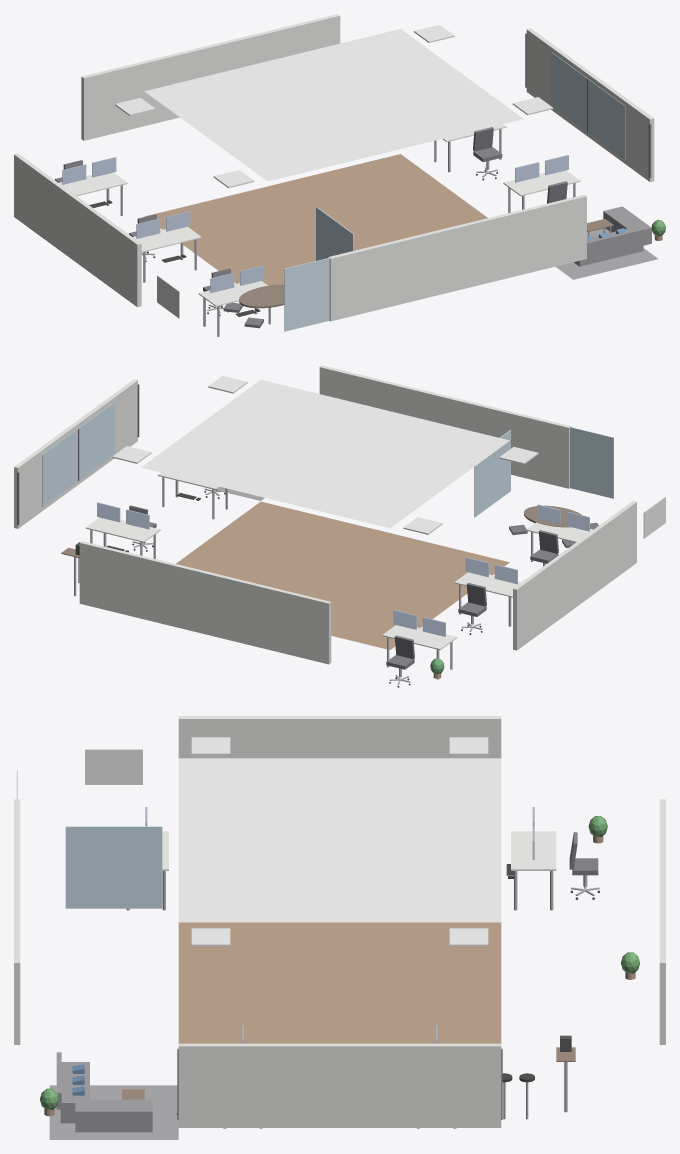
File: office_v7.glb
3 views of the same model, one above another, from view 1: azimuth 30°, elevation 25°; view 2: azimuth 150°, elevation 25°; view 3: azimuth 270°, elevation 25° (orthographic). The views are drawn at different scales.
Parts seen in each view (by area): view 1: Ceiling, Floor, Back_Wall, Front_Wall, Left_Wall, Right_Wall, Window, Glass_Front, Glass_Right, Carpet, Desktop_4, Meeting_Table (+7 smaller); view 2: Ceiling, Floor, Front_Wall, Back_Wall, Left_Wall, Right_Wall, Window, Glass_Front, Glass_Right, Desktop_5, Desktop_3, Desktop_2 (+3 smaller); view 3: Ceiling, Floor, Right_Wall, Left_Wall, Glass_Right, Carpet, Sofa_Side, Whiteboard, Desktop_3, Back_Wall, Front_Wall, Sofa_Main (+4 smaller).
Boxes of the visible parts, x1,y1,x2,y2 form: Ceiling: [145, 29, 523, 181]; Floor: [144, 154, 487, 285]; Back_Wall: [328, 194, 586, 321]; Front_Wall: [81, 14, 340, 140]; Left_Wall: [14, 153, 141, 307]; Right_Wall: [526, 28, 654, 181]; Window: [551, 52, 625, 159]; Glass_Front: [284, 257, 330, 331]; Glass_Right: [316, 207, 353, 260]; Carpet: [555, 228, 657, 279]; Desktop_4: [503, 170, 580, 196]; Meeting_Table: [239, 284, 284, 308]; Ceiling: [141, 380, 509, 528]; Floor: [176, 501, 509, 649]; Front_Wall: [79, 541, 331, 664]; Back_Wall: [319, 365, 571, 488]; Left_Wall: [513, 501, 636, 650]; Right_Wall: [14, 379, 137, 528]; Window: [42, 402, 114, 506]; Glass_Front: [568, 426, 613, 498]; Glass_Right: [474, 430, 510, 517]; Desktop_5: [85, 517, 160, 542]; Desktop_3: [382, 625, 457, 650]; Desktop_2: [454, 572, 520, 597]; Ceiling: [178, 758, 501, 921]; Floor: [178, 922, 501, 1043]; Right_Wall: [178, 1043, 501, 1127]; Left_Wall: [178, 716, 501, 758]; Glass_Right: [65, 826, 162, 908]; Carpet: [49, 1085, 178, 1139]; Sofa_Side: [75, 1099, 152, 1132]; Whiteboard: [85, 749, 142, 784]; Desktop_3: [511, 831, 556, 870]; Back_Wall: [14, 799, 20, 1044]; Front_Wall: [659, 799, 665, 1044]; Sofa_Main: [60, 1062, 89, 1123].
Bounding box in the file's own units: 12.1 × 2.8 × 10.1.
